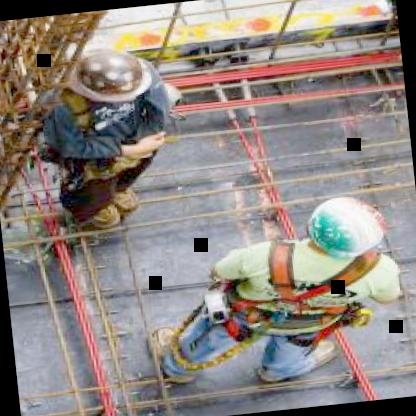helmet: (50, 40, 164, 112), (301, 191, 394, 266)
